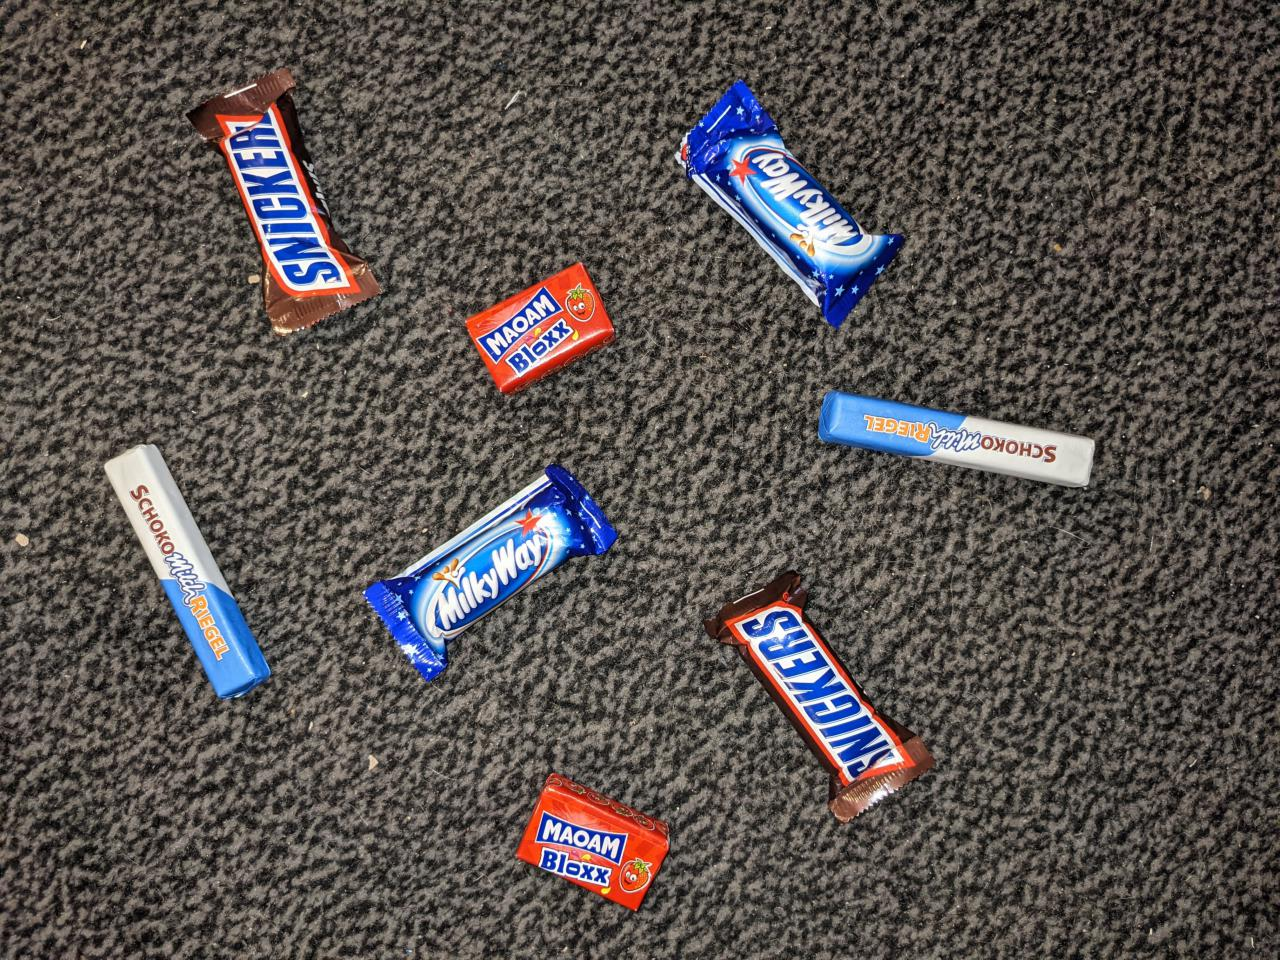MAOAM: (507, 766, 678, 916), (459, 258, 622, 401)
MilkyWay: (670, 75, 912, 334), (357, 460, 625, 686)
Schokoriegel: (99, 438, 276, 704), (810, 386, 1100, 496)
Snickers: (699, 566, 939, 826), (182, 64, 391, 342)
